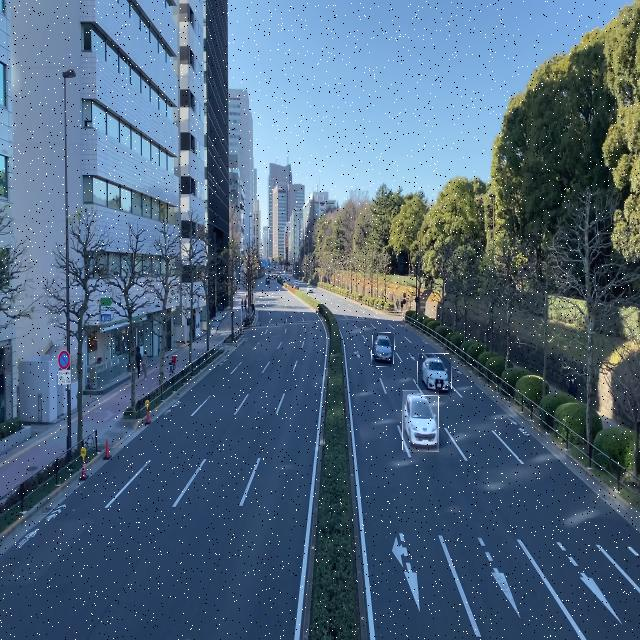Car: (403, 390, 439, 452), (418, 354, 452, 396), (372, 333, 394, 367)
